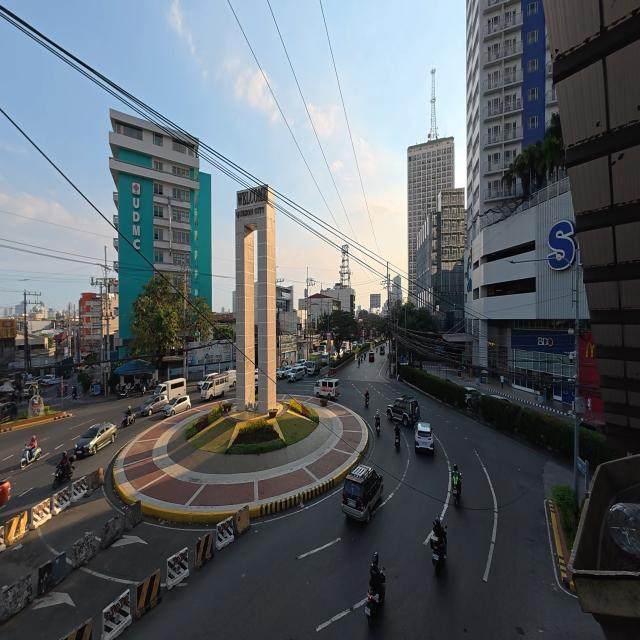car: (342, 465, 383, 522), (75, 423, 117, 456), (387, 395, 419, 426), (415, 422, 434, 453), (140, 395, 168, 416), (163, 395, 190, 416), (581, 419, 605, 434), (0, 402, 17, 423), (465, 387, 482, 405), (288, 366, 306, 382), (0, 479, 10, 506), (23, 381, 39, 396), (276, 365, 292, 379), (491, 395, 511, 403), (42, 375, 55, 385), (254, 372, 259, 390), (296, 359, 305, 365), (369, 351, 374, 361), (380, 345, 385, 355)
motorcycle: (365, 588, 384, 626), (430, 538, 445, 576), (53, 464, 74, 489), (20, 445, 41, 468), (452, 474, 461, 506), (131, 381, 146, 395), (121, 414, 134, 428), (117, 385, 129, 399), (58, 385, 68, 397), (395, 433, 400, 450), (375, 420, 380, 435), (72, 387, 77, 400), (365, 397, 369, 408), (358, 360, 360, 367)
trucks: (305, 353, 322, 375)
vans: (197, 370, 236, 391), (201, 373, 229, 399), (155, 378, 186, 401), (314, 378, 340, 398), (223, 370, 236, 387), (41, 375, 61, 385)
